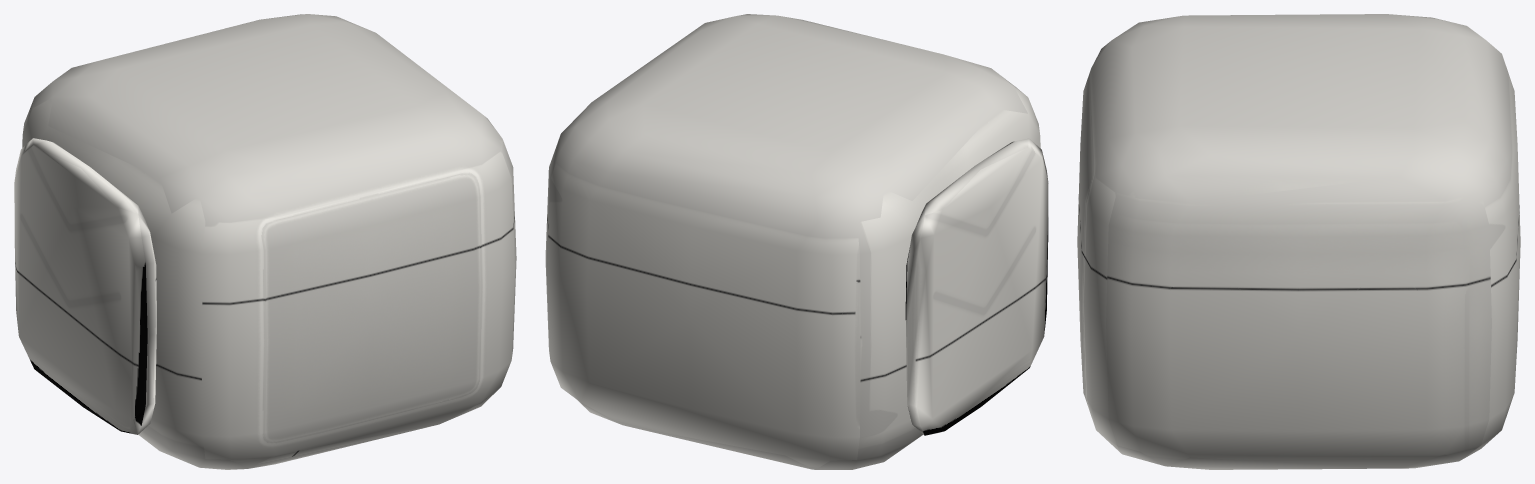
Rendered from Centinela_BrazaleteDer.fbx.
3 views of the same model, side by side, from view 1: azimuth 30°, elevation 25°; view 2: azimuth 150°, elevation 25°; view 3: azimuth 270°, elevation 25° (orthographic). The views are drawn at different scales.
Parts seen in each view (by area): view 1: Centinela_BrazaleteDer; view 2: Centinela_BrazaleteDer; view 3: Centinela_BrazaleteDer.
Part boxes in pixels (x1=…): Centinela_BrazaleteDer: x1=14, y1=14, x2=516, y2=469; Centinela_BrazaleteDer: x1=545, y1=14, x2=1048, y2=469; Centinela_BrazaleteDer: x1=1077, y1=14, x2=1520, y2=469.
Bounding box in the file's own units: 1.19 × 0.9499 × 1.14.
